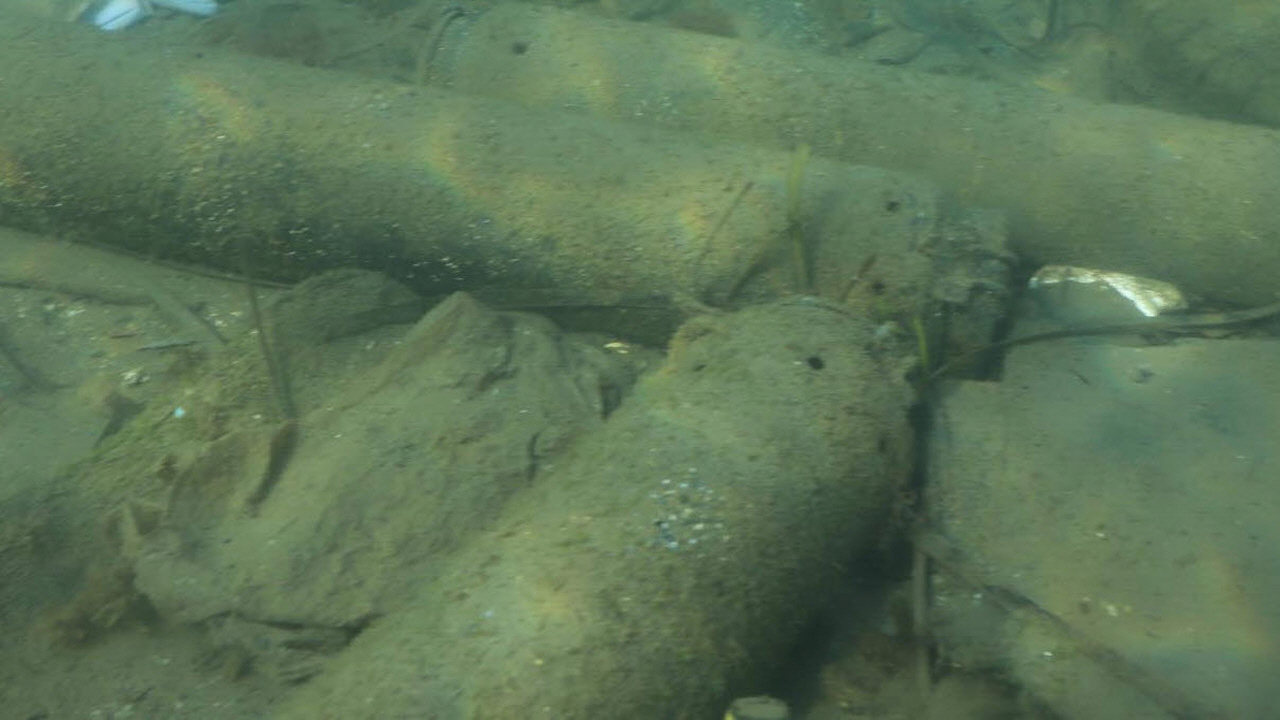eel fish trap: (0, 6, 1006, 381), (287, 295, 913, 720), (419, 4, 1280, 311)
